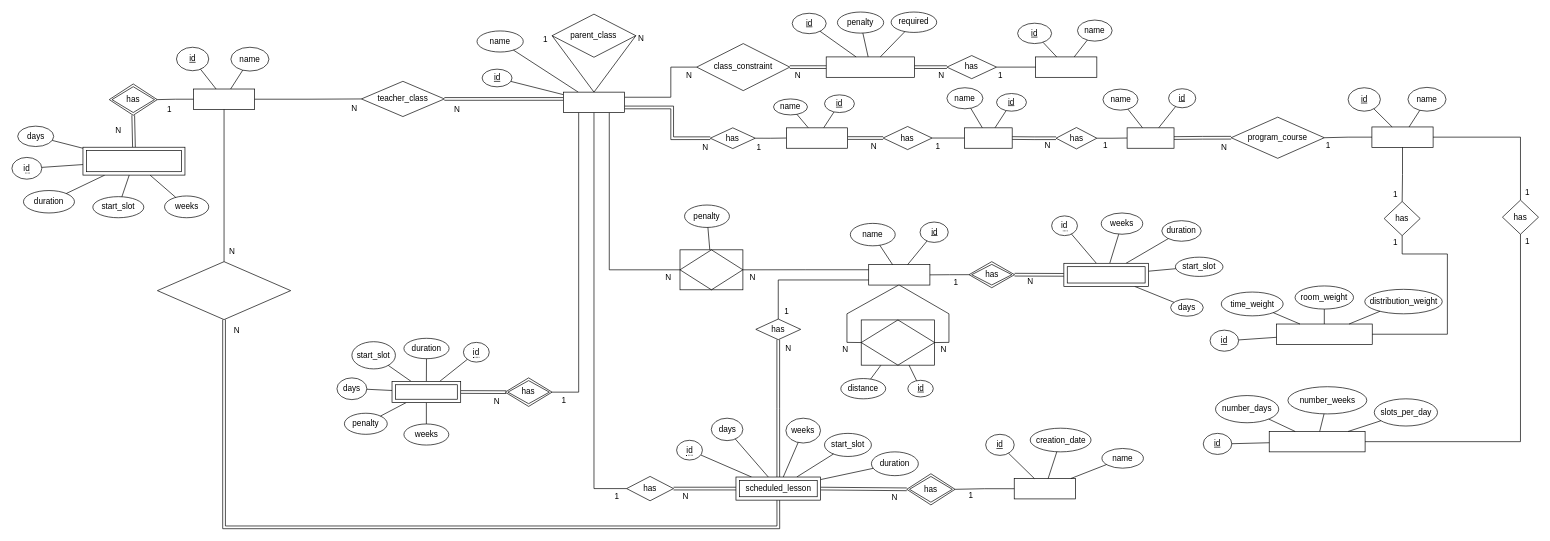
Image size: 1550x541. Some labels were removed from this diagram. The shapes that lost their labels are listed below. From the top down, each one's centre as x and y in pixels, then its label:
At (870,66): "timetable_constraint".
At (1066,66): "constraint_type".
At (224,98): "teacher".
At (594,102): "class_unit".
At (817,137): "subpart".
At (988,137): "config".
At (1150,137): "course".
At (1402,136): "program".
At (133,161): "teacher_unavailability".
At (711,269): "class_room".
At (899,274): "room".
At (1106,274): "room_unavailability".
At (224,290): "scheduled_lesson_teacher".
At (898,342): "room_distance".
At (1324,333): "optimization_parameters".
At (426,392): "class_time".
At (1317,441): "configuration".
At (1044,488): "timetable".
